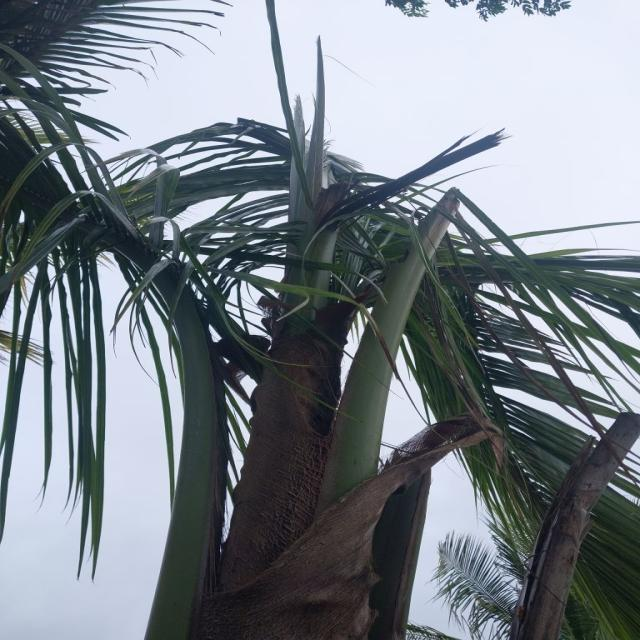bud root dropping: (0, 0, 637, 640)
